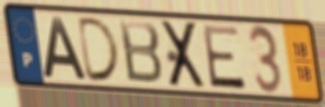3: (247, 22, 284, 98)
A: (41, 14, 89, 81)
B: (117, 18, 165, 87)
D: (76, 15, 123, 83)
E: (199, 23, 248, 92)
X: (159, 19, 209, 90)
